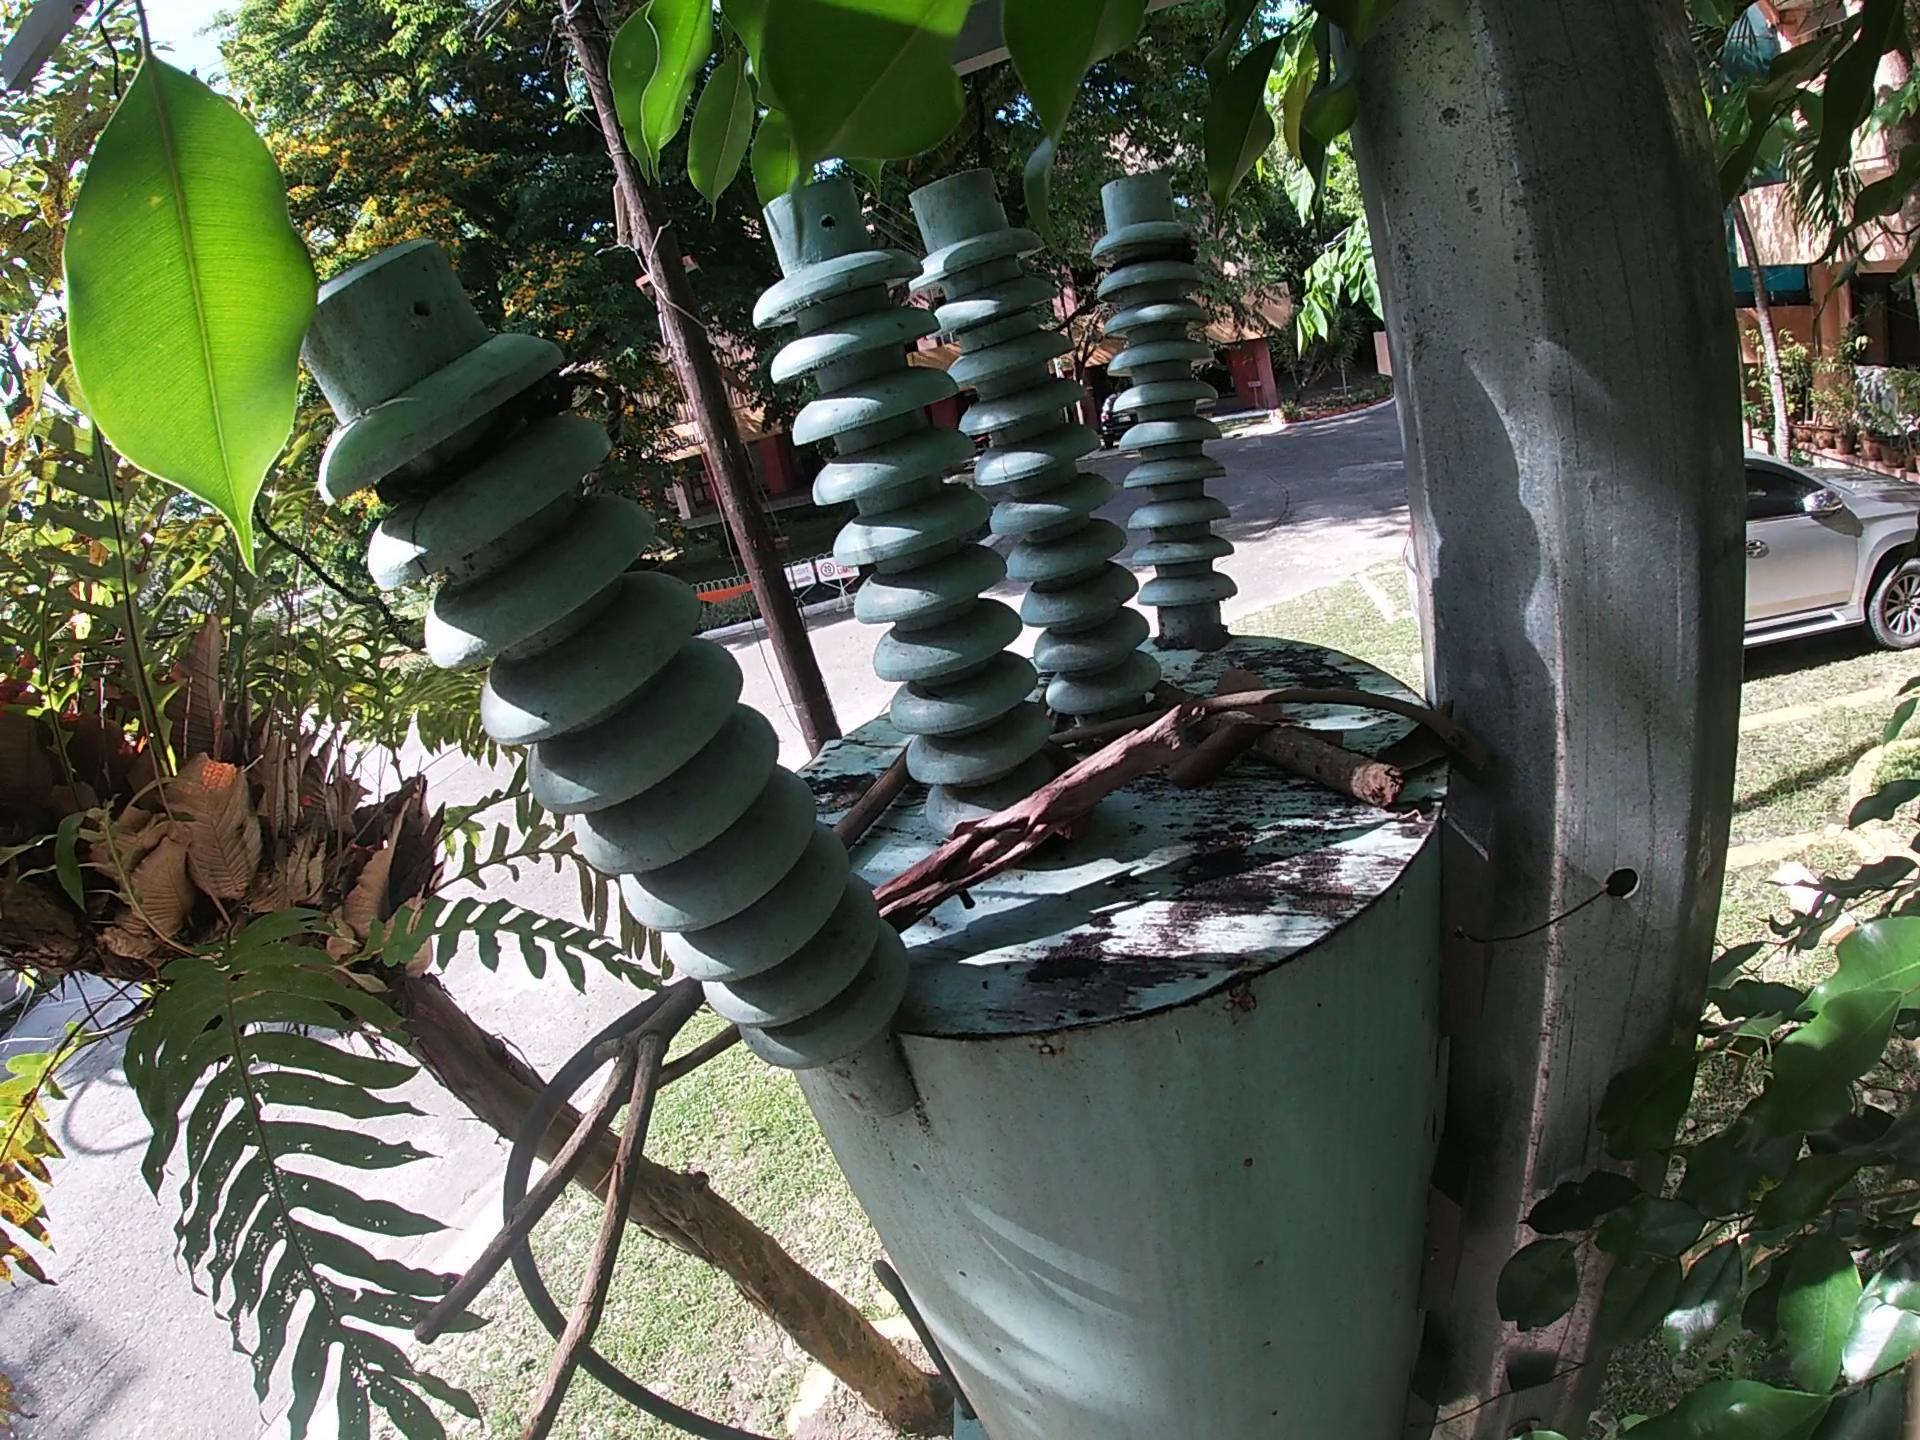leaf: (1178, 697, 1268, 787)
tree branch: (317, 979, 739, 1429), (877, 697, 1203, 938), (1175, 681, 1423, 815), (1051, 684, 1448, 743), (838, 735, 922, 843)
